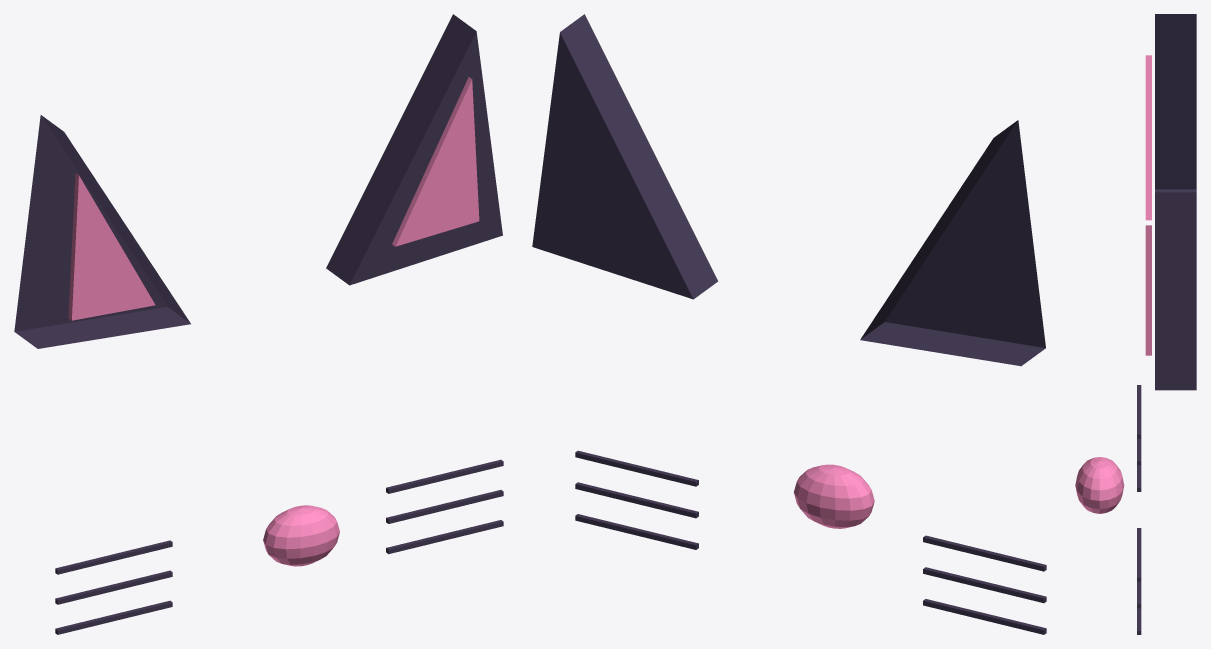
File: kitty.glb
3 renders of one model, left to right at view 1: azimuth 30°, elevation 25°; view 2: azimuth 150°, elevation 25°; view 3: azimuth 270°, elevation 25°, orthographic. The views are drawn at different scales.
Visible parts, largest first — view 1: cat ear (×2), cat ear inner (×2), whisker (×6), nose; view 2: cat ear (×2), whisker (×6), nose; view 3: cat ear (×2), nose, cat ear inner (×2), whisker (×2).
Part boxes in pixels (x1,y1,x2,y2): cat ear (×2): (14, 14, 502, 348); cat ear inner (×2): (68, 77, 479, 320); whisker (×6): (55, 459, 503, 634); nose: (263, 505, 339, 566); cat ear (×2): (532, 14, 1045, 366); whisker (×6): (575, 450, 1046, 634); nose: (793, 464, 874, 528); cat ear (×2): (1155, 14, 1196, 390); nose: (1075, 457, 1124, 513); cat ear inner (×2): (1145, 55, 1151, 355); whisker (×2): (1137, 385, 1141, 581).
Bounding box in the file's own units: 1.94 × 1.96 × 0.495.
